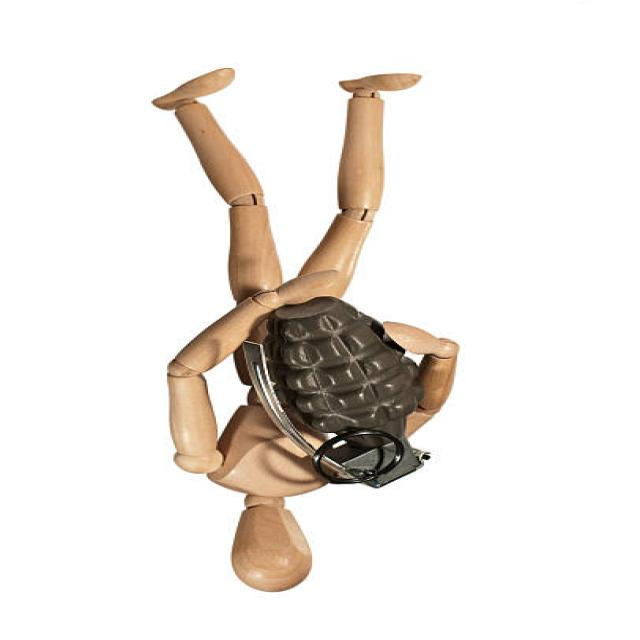grenade: (230, 294, 447, 493)
